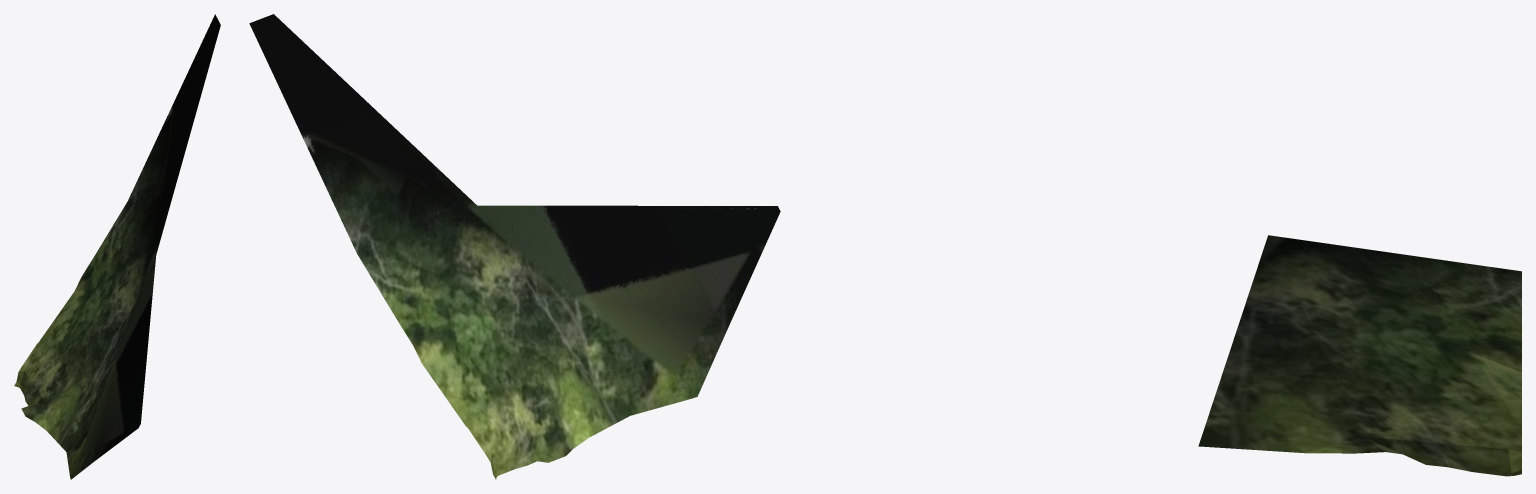
3 views of the same model, side by side, from view 1: azimuth 30°, elevation 25°; view 2: azimuth 150°, elevation 25°; view 3: azimuth 270°, elevation 25° (orthographic). The views are drawn at different scales.
Size of the model in its own units: 9.74 by 11.8 by 11.8.
2 materials, 2 textured.
